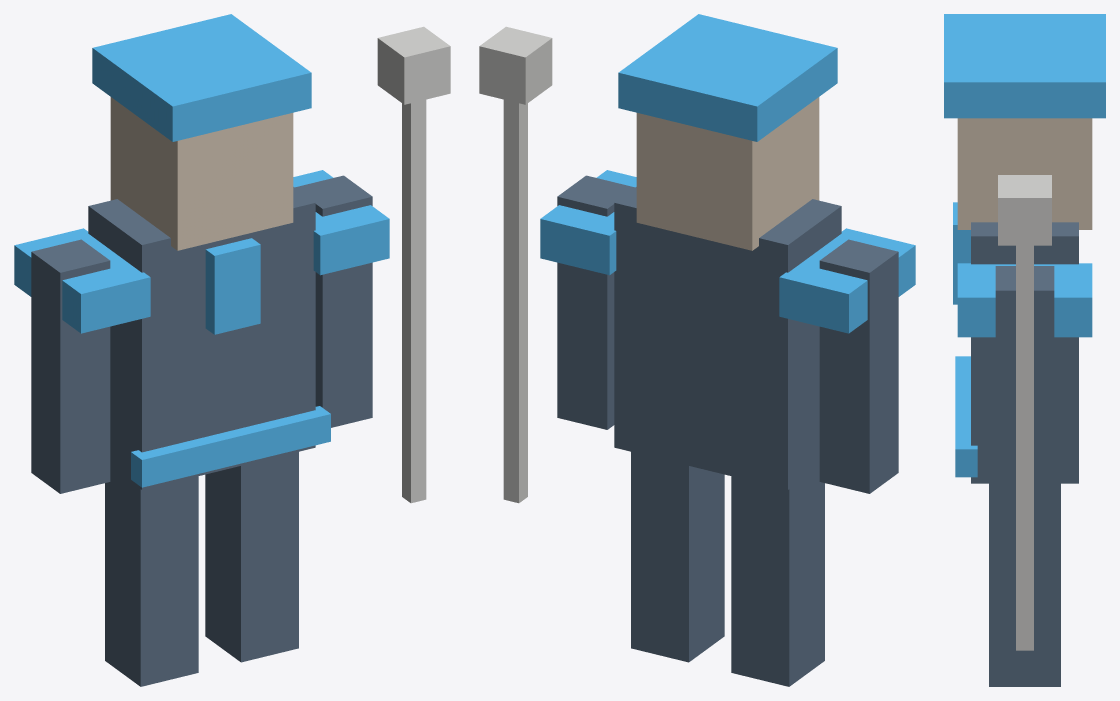
Rendered from 09_astra_glassroot_watcher_near_maintenance.glb.
The picture shows the model from 3 angles, left to right: view 1: azimuth 30°, elevation 25°; view 2: azimuth 150°, elevation 25°; view 3: azimuth 270°, elevation 25°; orthographic projection.
Visible parts, largest first — view 1: Astra Glassroot, Watcher near Maintenance; view 2: Astra Glassroot, Watcher near Maintenance; view 3: Astra Glassroot, Watcher near Maintenance.
Boxes of the visible parts, left/top/right/bottom form: Astra Glassroot, Watcher near Maintenance: left=14, top=14, right=450, bottom=686; Astra Glassroot, Watcher near Maintenance: left=479, top=14, right=915, bottom=686; Astra Glassroot, Watcher near Maintenance: left=944, top=14, right=1105, bottom=686.
Size of the model in its own units: 1.04 by 1.51 by 0.3697.
